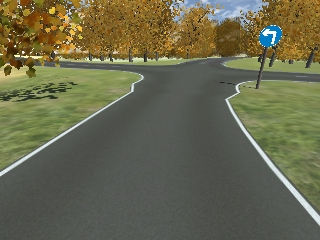left: (258, 25, 281, 47)
